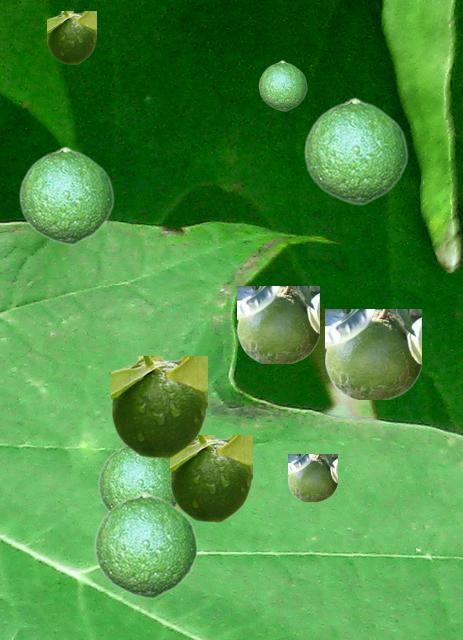dalandan: (303, 97, 407, 204), (93, 491, 197, 598), (111, 356, 206, 457), (18, 146, 113, 244), (325, 309, 420, 398), (170, 435, 251, 521), (237, 286, 318, 362), (97, 445, 176, 510), (47, 11, 95, 63), (258, 60, 306, 110), (288, 454, 336, 500)
